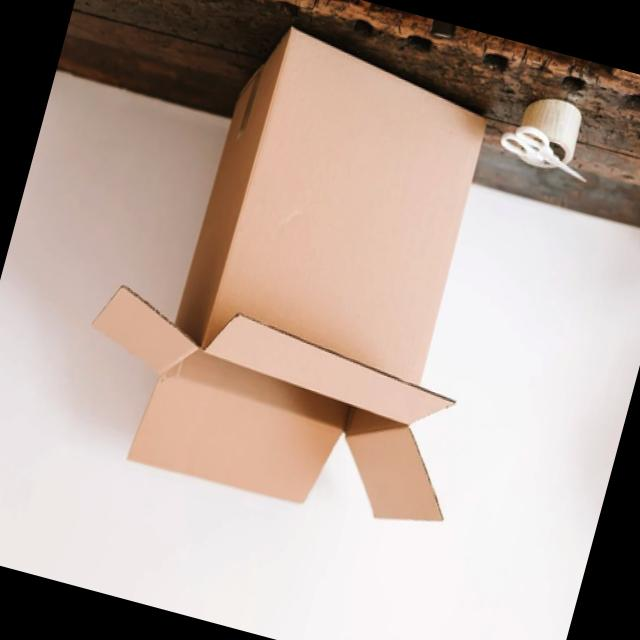Kardus: (58, 0, 556, 545)
